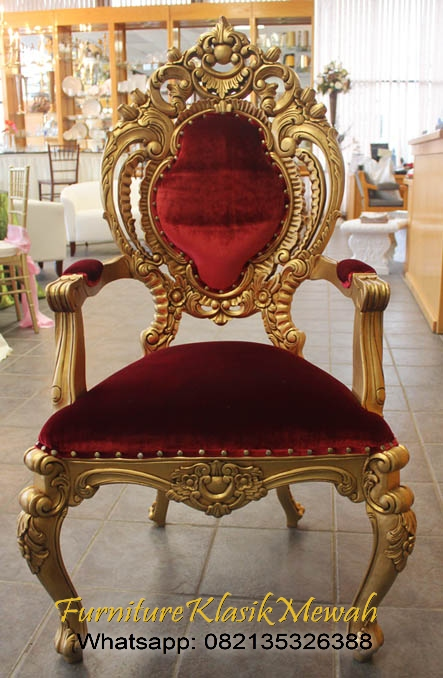Carving Chair: (38, 49, 423, 668)
